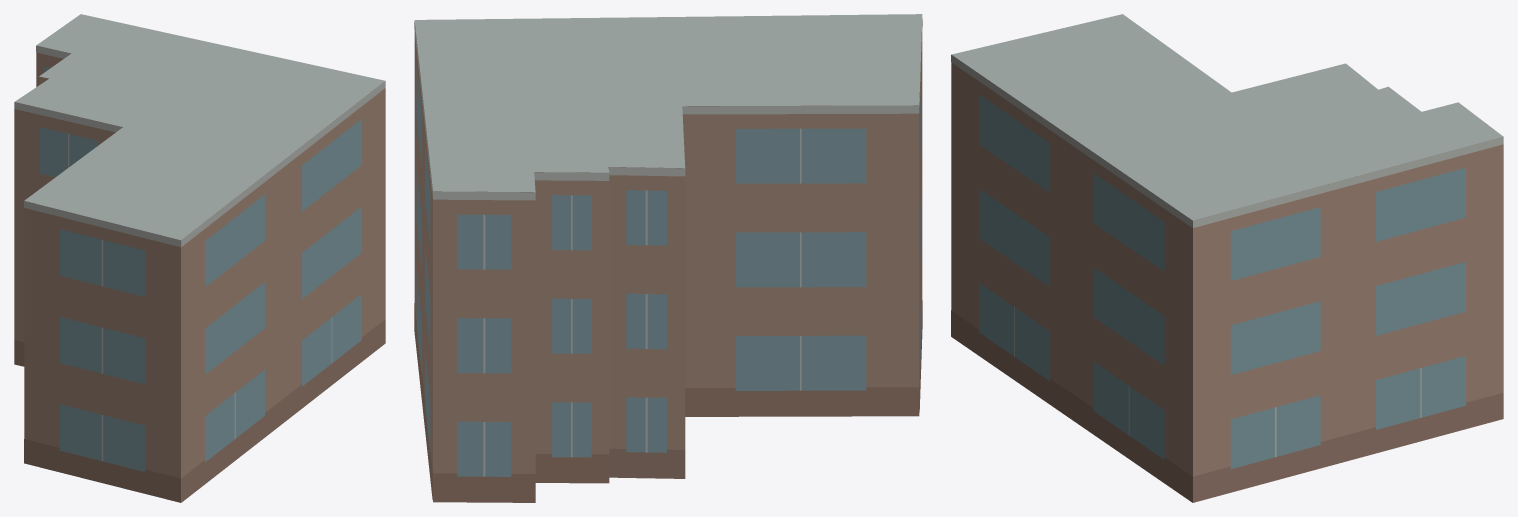
File: survey-upis-32681913.glb
3 views of the same model, side by side, from view 1: azimuth 30°, elevation 25°; view 2: azimuth 150°, elevation 25°; view 3: azimuth 270°, elevation 25° (orthographic). The views are drawn at different scales.
Parts seen in each view (by area): view 1: survey-upis-32681913.tmp; view 2: survey-upis-32681913.tmp; view 3: survey-upis-32681913.tmp.
Boxes of the visible parts, <box> form: survey-upis-32681913.tmp: <box>14,14,385,502</box>; survey-upis-32681913.tmp: <box>414,14,922,502</box>; survey-upis-32681913.tmp: <box>951,14,1503,502</box>.
Bounding box in the file's own units: 14.3 × 9.1 × 16.15.
